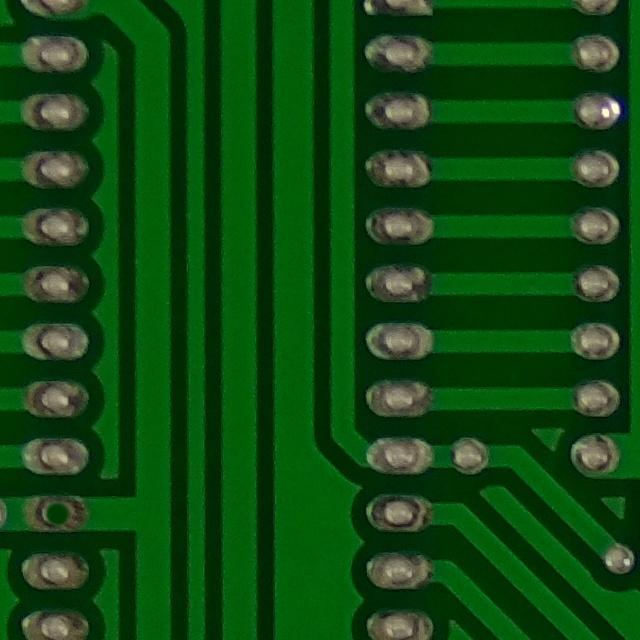missing_hole: (22, 483, 95, 539)
